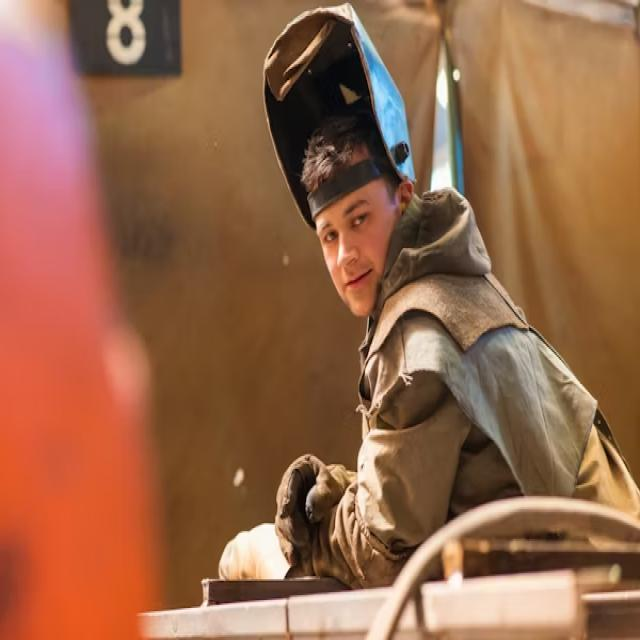helmet_lifted: (249, 2, 424, 319)
